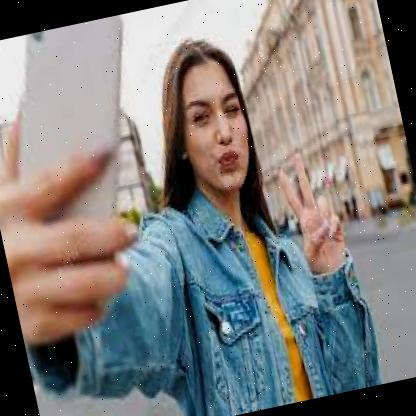sem_capacete: (142, 19, 272, 220)
sem_colete_refletivo: (97, 154, 385, 415)
